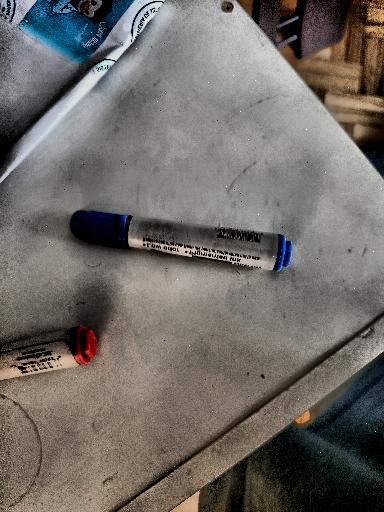marcador azul: (71, 211, 292, 271)
marcador rojo: (0, 326, 97, 380)
